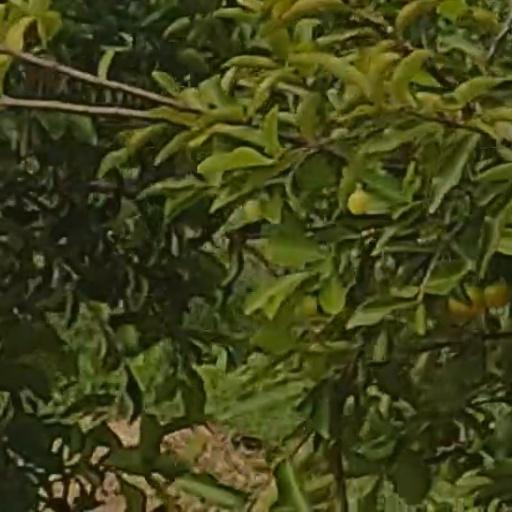acerola: (453, 289, 482, 320), (486, 283, 506, 307)
